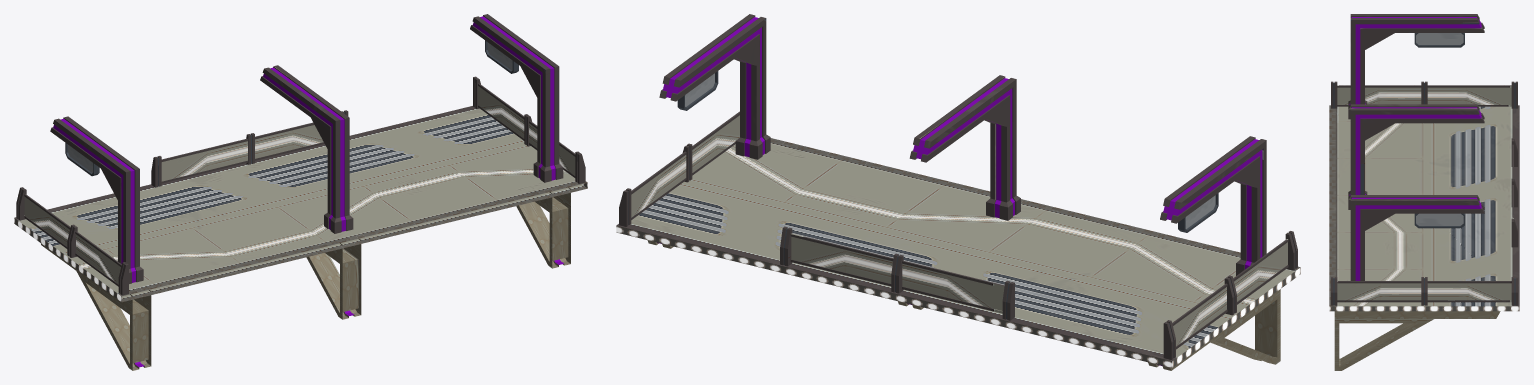
The model's file is KF_Train_Station.fbx.
3 views of the same model, side by side, from view 1: azimuth 30°, elevation 25°; view 2: azimuth 150°, elevation 25°; view 3: azimuth 270°, elevation 25° (orthographic). The views are drawn at different scales.
Parts seen in each view (by area): view 1: KF_Train_Station; view 2: KF_Train_Station; view 3: KF_Train_Station.
Part boxes in pixels (x1,y1,x2,y2): KF_Train_Station: (14,14,587,370); KF_Train_Station: (616,14,1300,370); KF_Train_Station: (1329,14,1519,370).
Bounding box in the file's own units: 5000 × 1962 × 2000.
3 materials, 2 textured.
